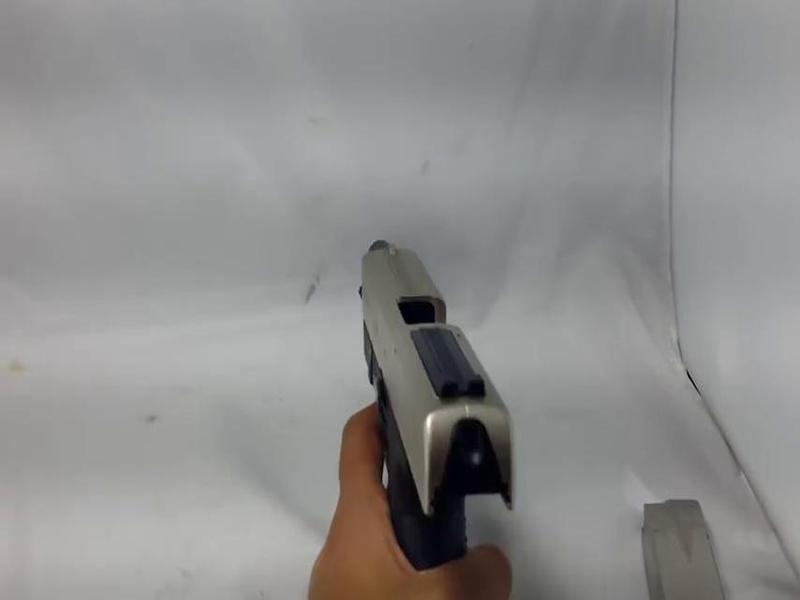Pistola: (287, 221, 541, 600)
